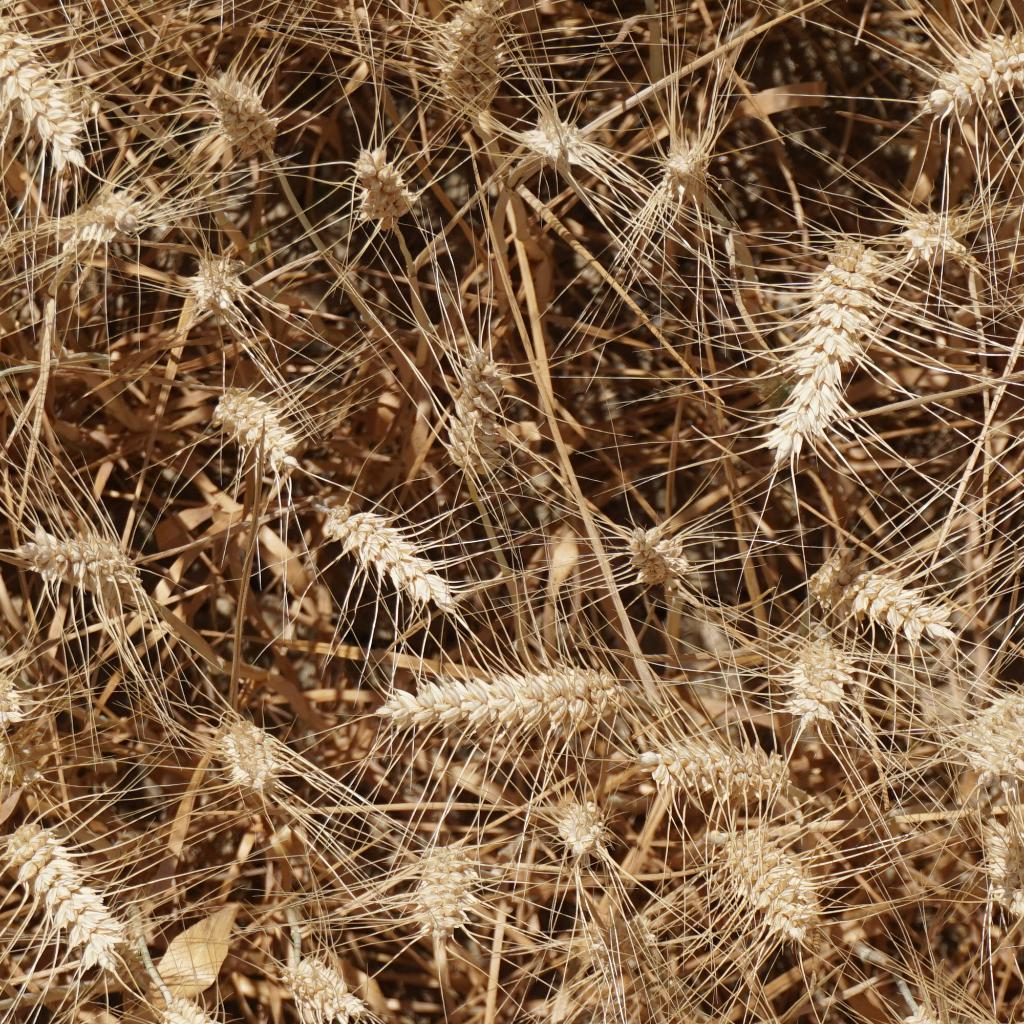0-0: (760, 210, 882, 454), (379, 642, 647, 750), (311, 484, 482, 618), (0, 809, 121, 968), (427, 321, 531, 502), (724, 823, 852, 958), (646, 716, 823, 809), (805, 545, 941, 661), (0, 15, 90, 169), (206, 384, 313, 488), (770, 612, 858, 718), (616, 518, 700, 624), (260, 925, 356, 1017), (403, 825, 476, 945), (204, 69, 291, 169), (935, 17, 1024, 114), (27, 521, 145, 594), (956, 677, 1024, 799), (431, 0, 502, 116), (352, 137, 435, 234), (905, 195, 992, 279), (208, 710, 287, 801), (649, 125, 716, 224), (521, 96, 598, 181), (74, 181, 157, 248), (980, 817, 1024, 929), (551, 793, 626, 858), (161, 982, 271, 1024), (186, 248, 249, 316), (891, 990, 966, 1024), (0, 657, 37, 722), (0, 714, 27, 787)
